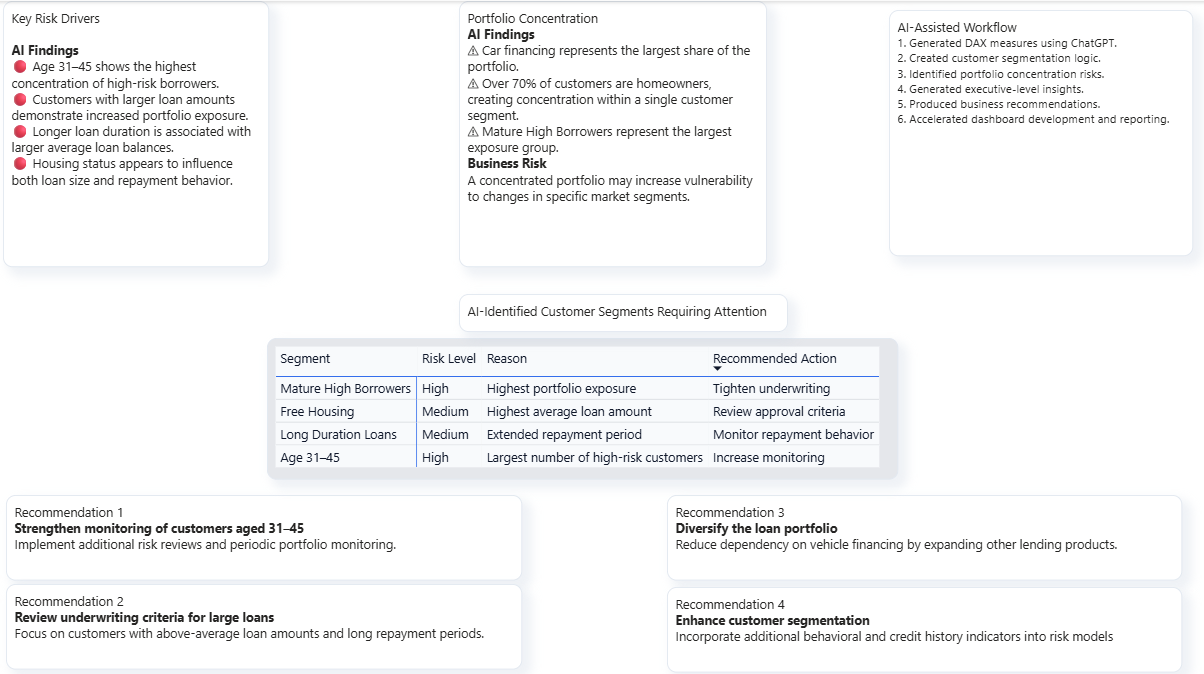

Layout of this report page (visuals, bound fields, positions):
{"tool":"powerbi","page":{"name":"Executive Recommendations","canvas":[1280,720],"ordinal":2},"visuals":[{"type":"textbox","box":[10,0,280,280],"z":0},{"type":"textbox","box":[490.1,0,323.9,279.8],"z":1000},{"type":"textbox","box":[13.7,519.6,542.7,90.5],"z":2000},{"type":"textbox","box":[13.7,613.2,542.7,90.5],"z":3000},{"type":"textbox","box":[708.9,517.5,541.7,90.5],"z":4000},{"type":"textbox","box":[708.9,616.3,541.7,90.5],"z":5000},{"type":"textbox","box":[942.4,9.5,319.7,258.7],"z":6000},{"type":"pivotTable","fields":{"Rows":["Risk_Attention_Segments.Segment"],"Values":["Min(Risk_Attention_Segments.Risk Level)","Min(Risk_Attention_Segments.Reason)","Min(Risk_Attention_Segments.Recommended Action)"]},"box":[288.2,354.4,663.7,149.4],"z":7000},{"type":"textbox","box":[490.1,308.2,346,40],"z":8000}]}

Visuals, with their boxes in screenshot pixels (x1, y1, x2, y2), scaled from the page's 1280x720 canvas onto the 1204x674 screenshot:
textbox: <box>9,0,273,262</box>
textbox: <box>461,0,766,262</box>
textbox: <box>13,486,523,571</box>
textbox: <box>13,574,523,659</box>
textbox: <box>667,484,1176,569</box>
textbox: <box>667,577,1176,662</box>
textbox: <box>886,9,1187,251</box>
pivotTable - Risk_Attention_Segments.Segment x Min(Risk_Attention_Segments.Risk Level): <box>271,332,895,472</box>
textbox: <box>461,289,786,326</box>
